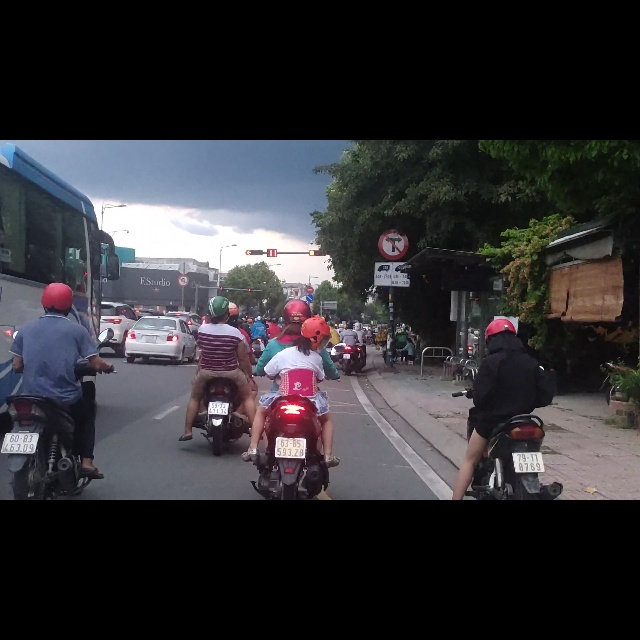bien_cam: (378, 156, 409, 215), (177, 238, 190, 261), (306, 260, 314, 273), (306, 274, 313, 288)
